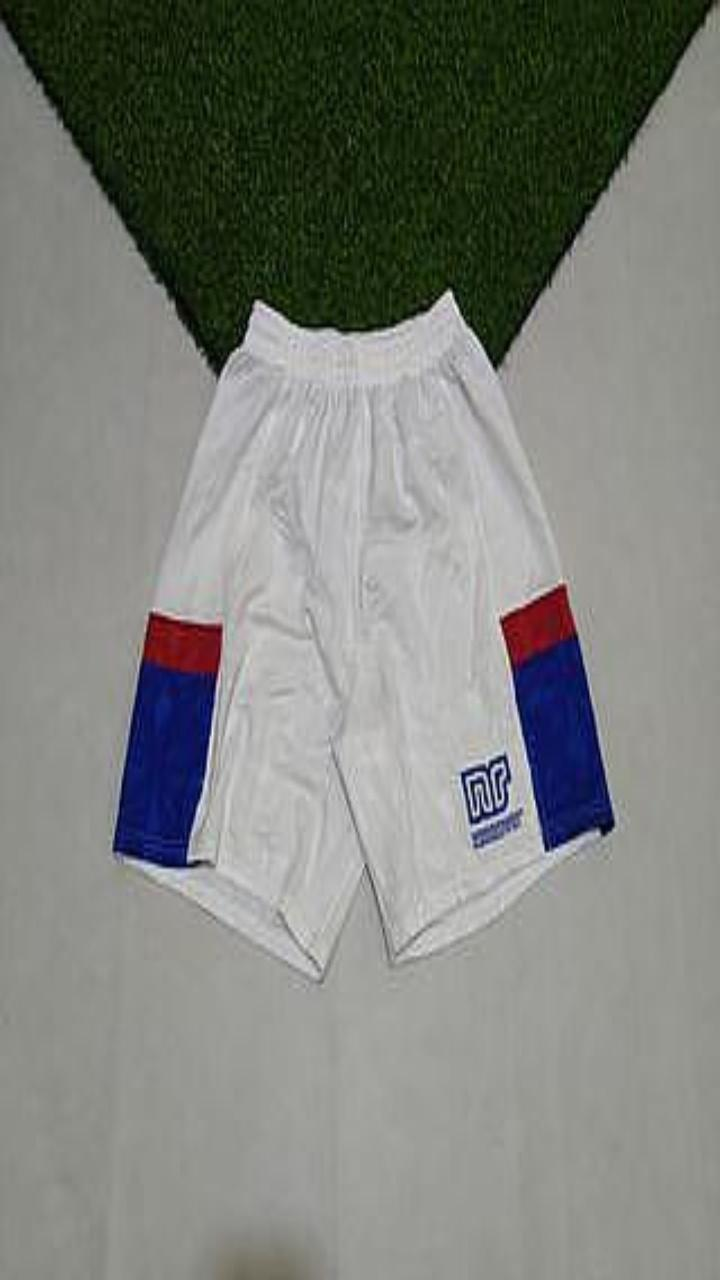Shorts: (114, 290, 613, 977)
